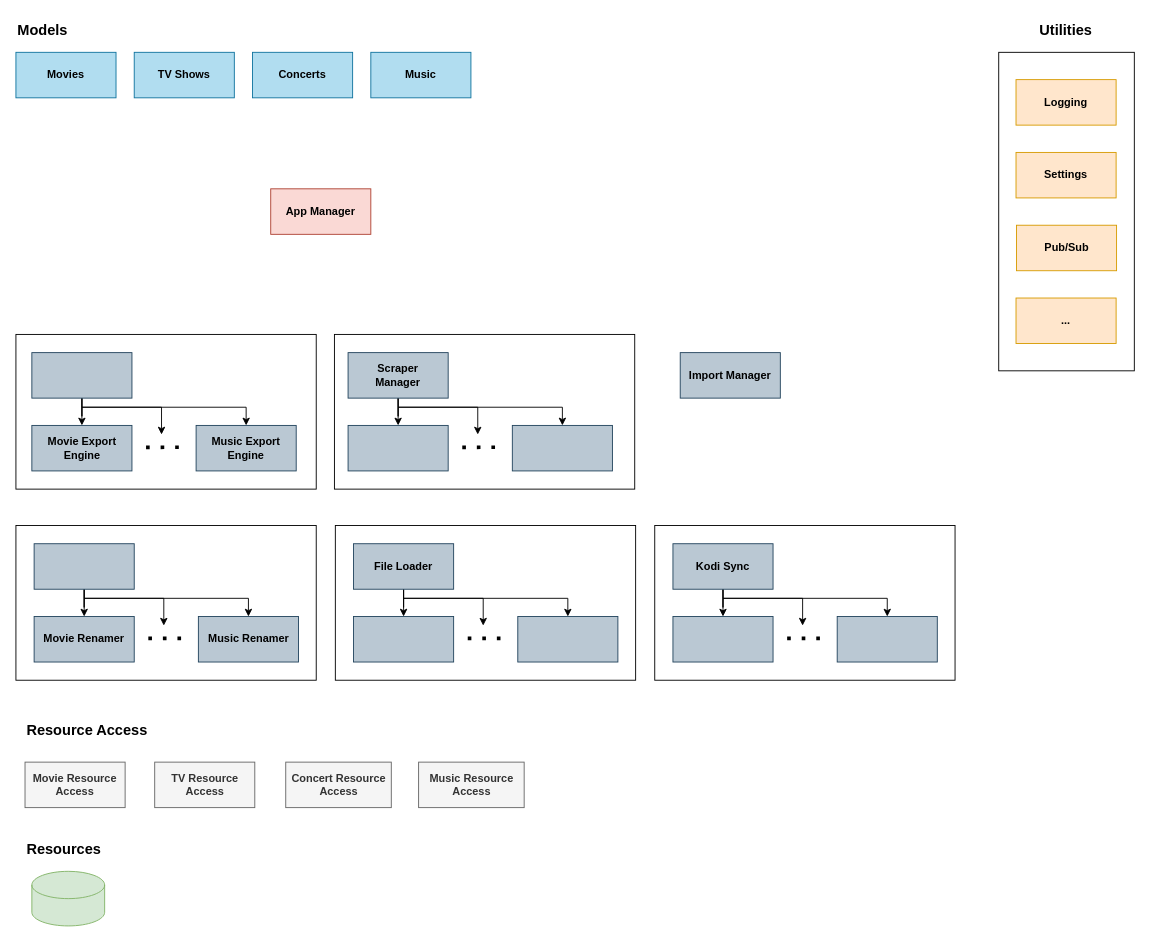
The diagram is 1150 pixels wide and 942 high, and some of its shapes have lost their labels. The shapes that lost their labels are listed below. From the top down, each one's centre as x and y in pixels, then its label:
At pixel 81 375: "Export Manager".
At pixel 397 448: "Movie Scraper Engine".
At pixel 561 448: "Music Scraper Engine".
At pixel 83 566: "Renamer".
At pixel 403 639: "Movie File Engine".
At pixel 567 639: "Music File Engine".
At pixel 722 639: "Movie Kodi Sync".
At pixel 886 639: "Music Kodi Sync".
At pixel 68 898: "Database".
